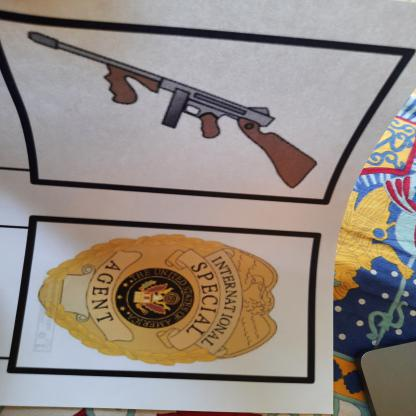Bootlegger: (27, 23, 347, 207)
G-man: (30, 224, 298, 375)
